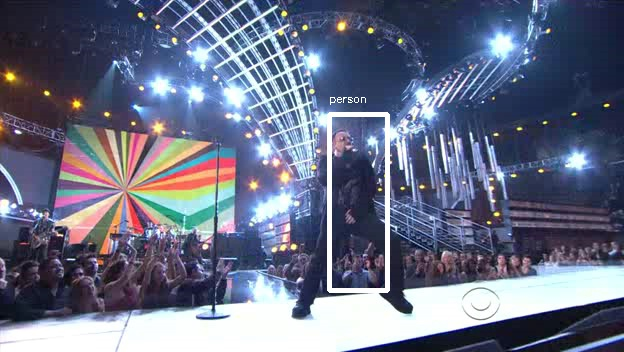person: (317, 126, 381, 243), (314, 126, 378, 243), (320, 126, 384, 243), (317, 123, 381, 240), (317, 129, 381, 246)
target_negative: (160, 102, 208, 332), (481, 191, 493, 239), (205, 297, 579, 298), (474, 73, 477, 122), (619, 250, 624, 259)
